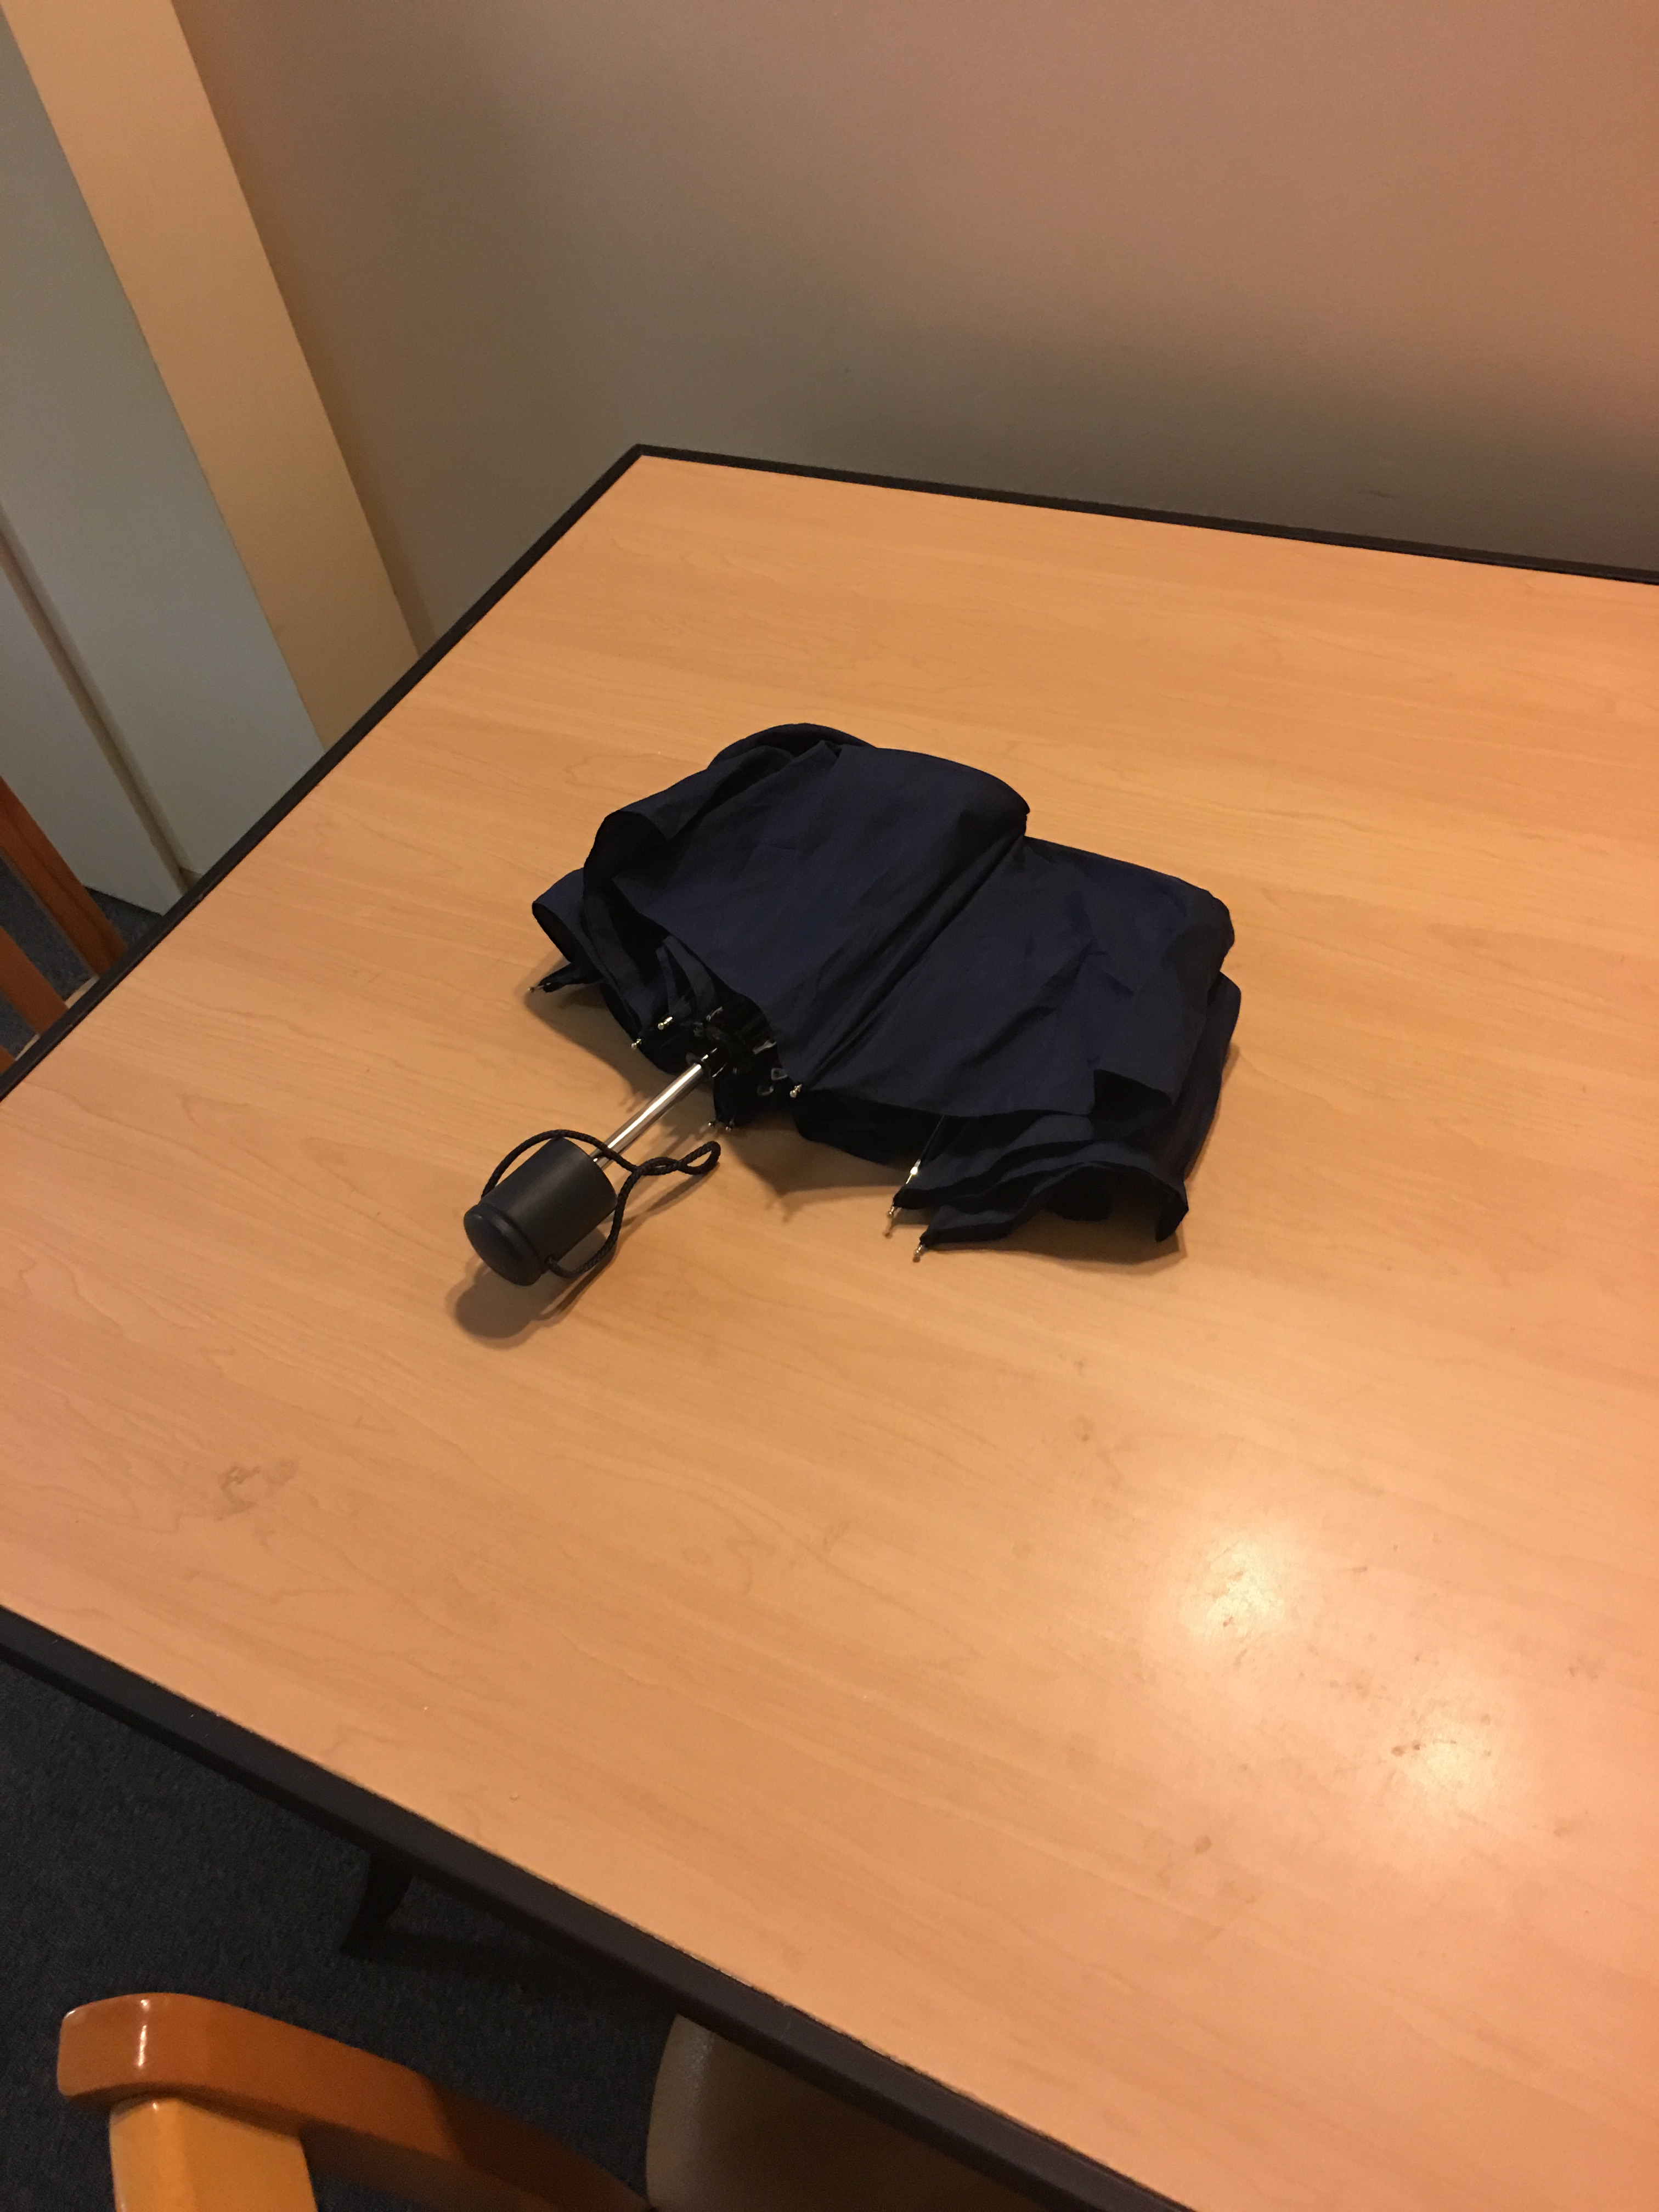Umbrella: (455, 725, 1244, 1292)
